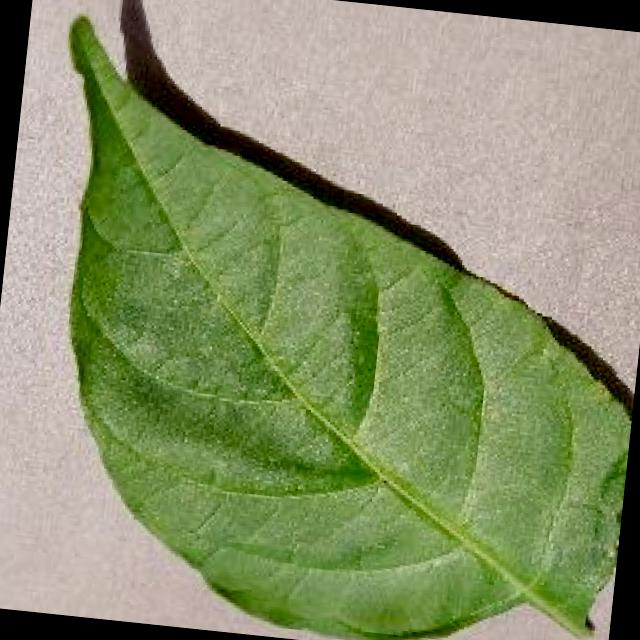Leaf: (72, 144, 487, 557)
